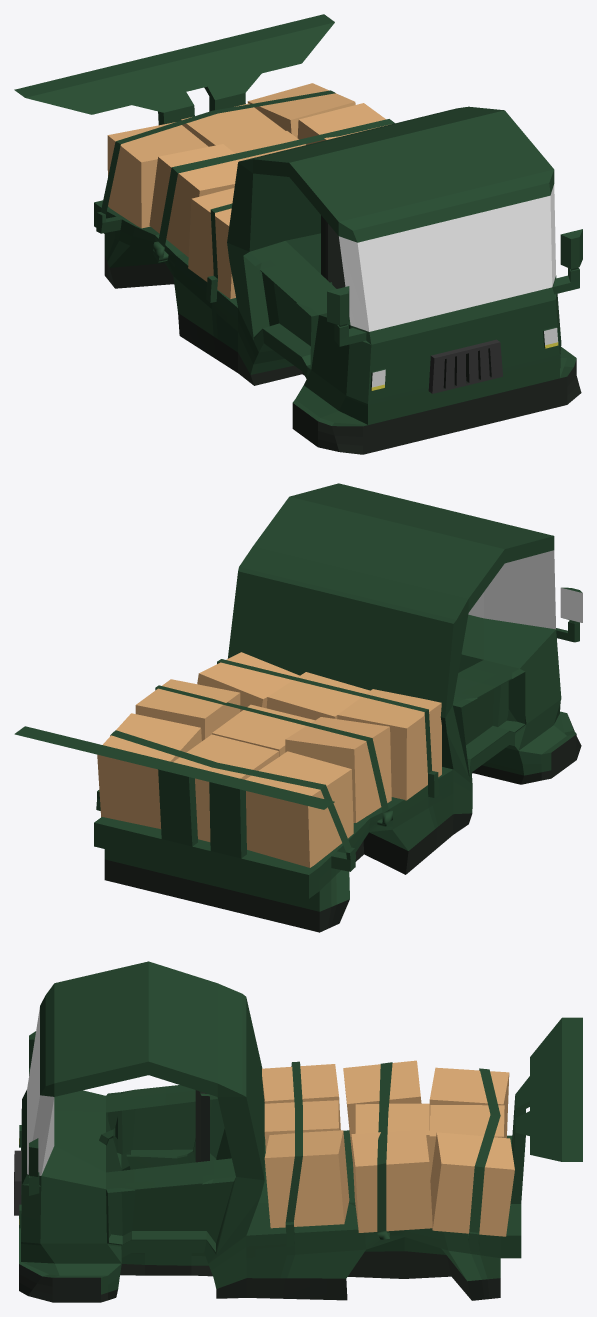
Rendered from carroca2.fbx.
3 renders of one model, top to bottom at view 1: azimuth 30°, elevation 25°; view 2: azimuth 150°, elevation 25°; view 3: azimuth 270°, elevation 25°, orthographic. The views are drawn at different scales.
Visible parts, largest first — view 1: carroca; view 2: carroca; view 3: carroca.
Part boxes in pixels (x1=…): carroca: x1=14, y1=14, x2=582, y2=454; carroca: x1=14, y1=483, x2=582, y2=932; carroca: x1=14, y1=961, x2=582, y2=1302.
Size of the model in its own units: 175 by 135 by 292.
